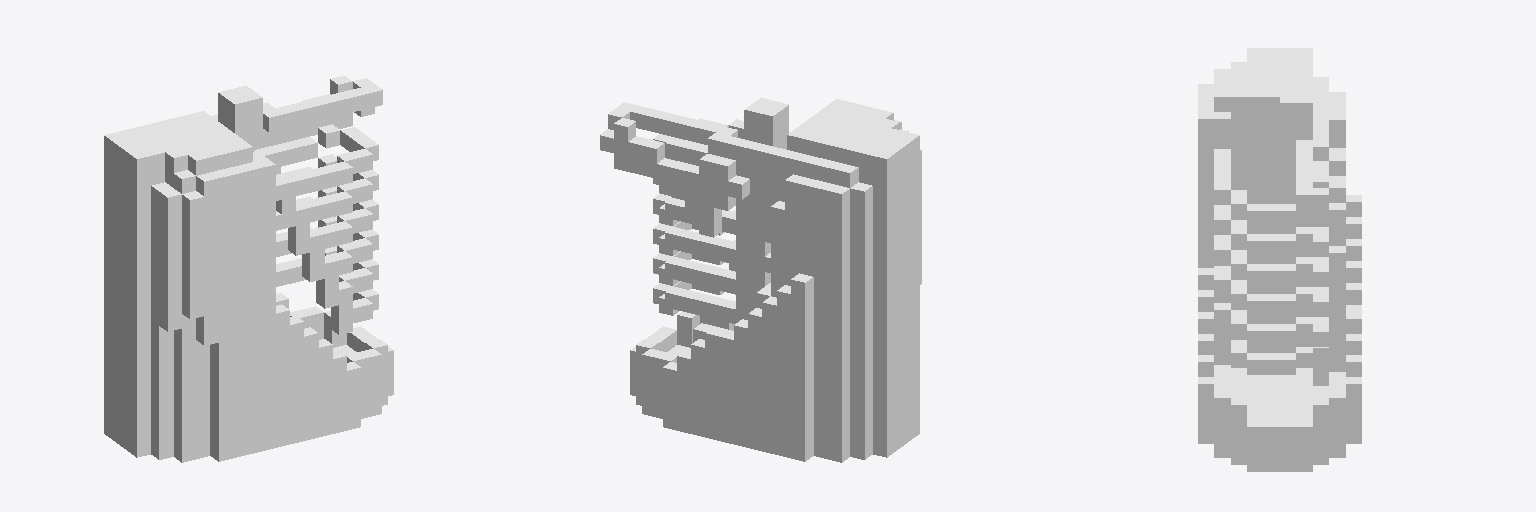
Rendered from EnemySkeleton1-11.obj.
The picture shows the model from 3 angles: view 1: azimuth 30°, elevation 25°; view 2: azimuth 150°, elevation 25°; view 3: azimuth 270°, elevation 25°; orthographic projection.
Parts seen in each view (by area): view 1: object 1; view 2: object 1; view 3: object 1.
Part boxes in pixels (x1,y1,x2,y2): object 1: (104,76,393,462); object 1: (600,98,921,462); object 1: (1198,48,1361,471).
Size of the model in its own units: 1.9 by 2.1 by 1.